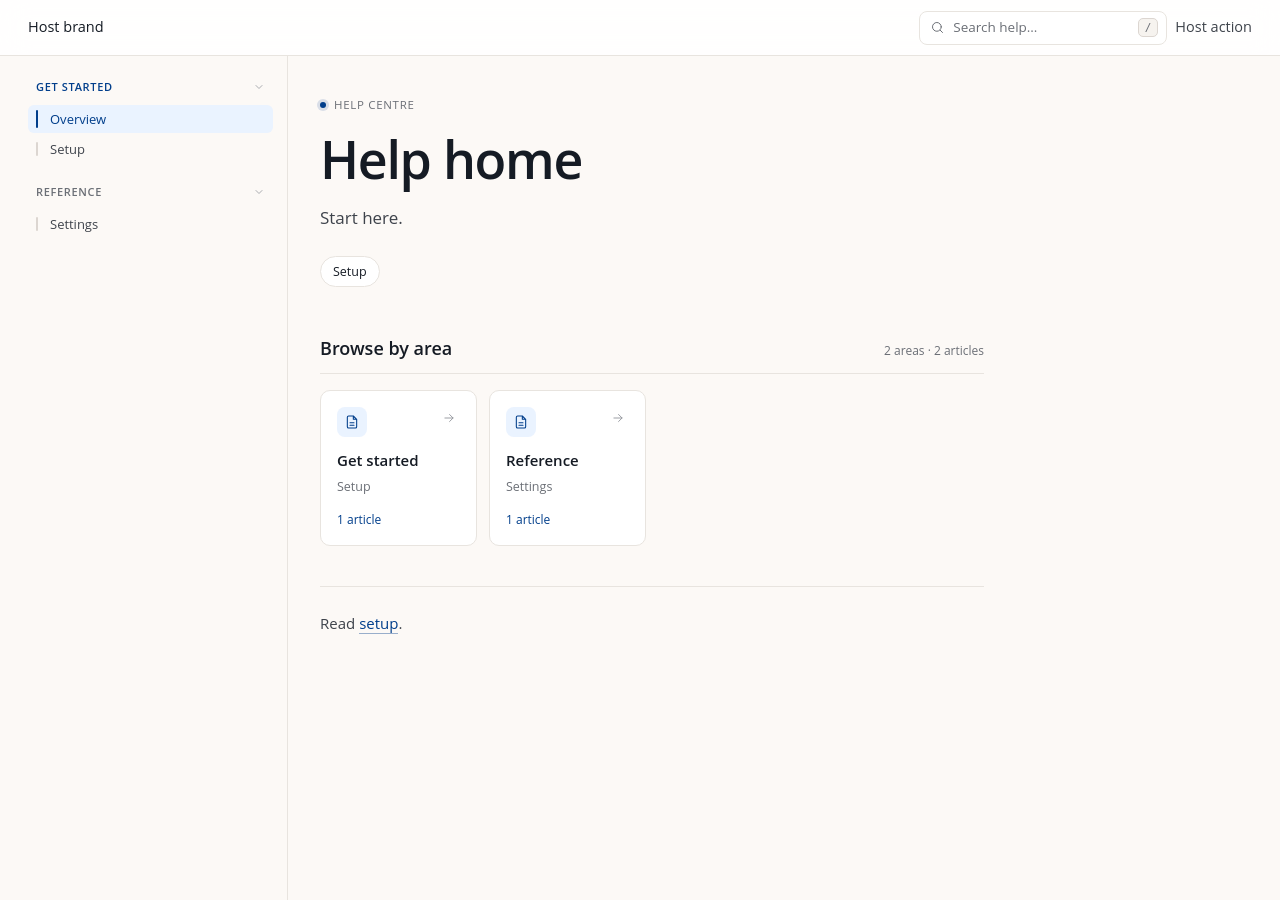
Test: HelpCenter › says so when nothing matches the search
The width and height of the screenshot is (1280, 900).
In the search field named "Search help": [1042, 27] box top-left (953, 17), bottom-right (1130, 38), type "sharks"
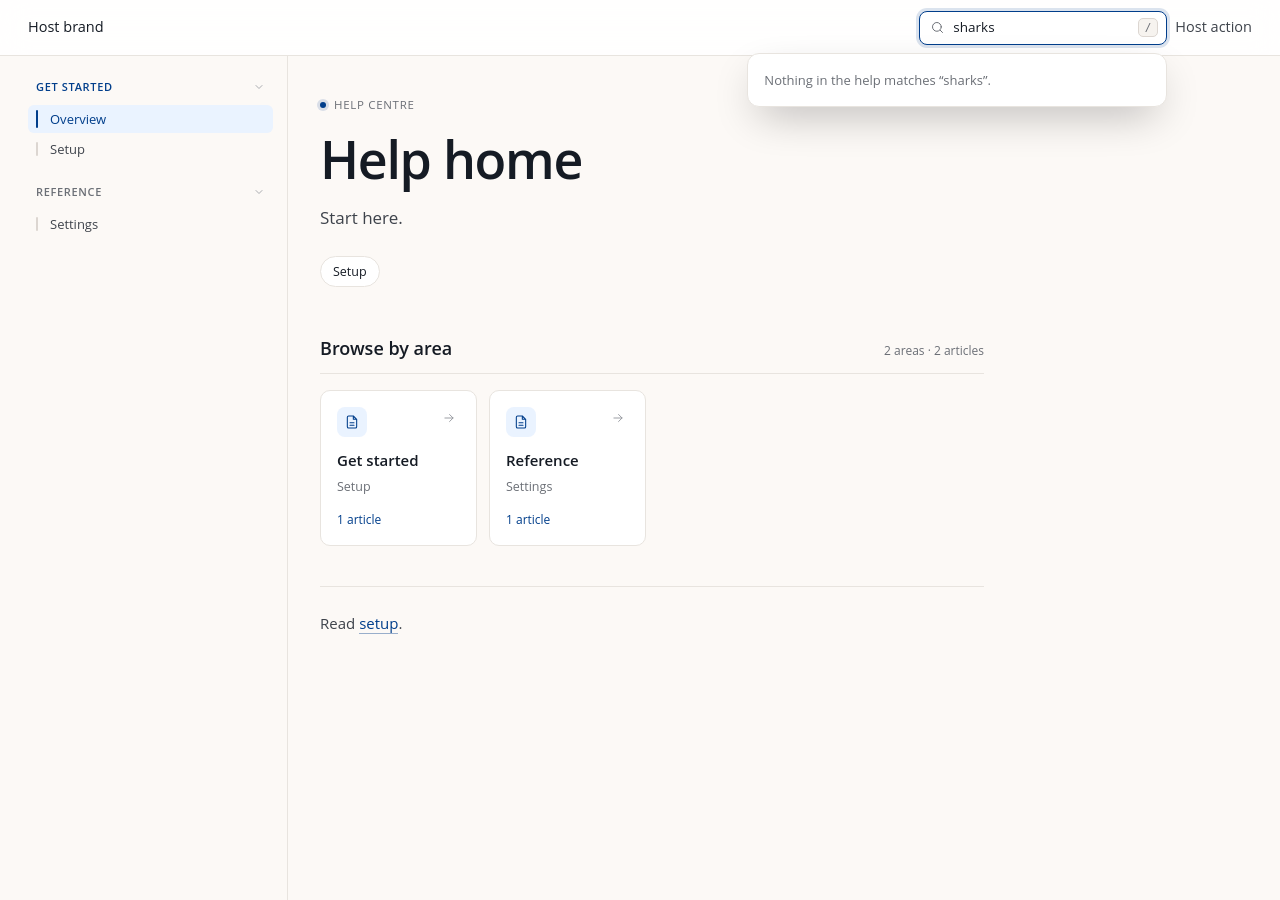
Expected: the text "Nothing in the help matches “sharks”." is shown, top-left (764, 70), bottom-right (991, 88)
